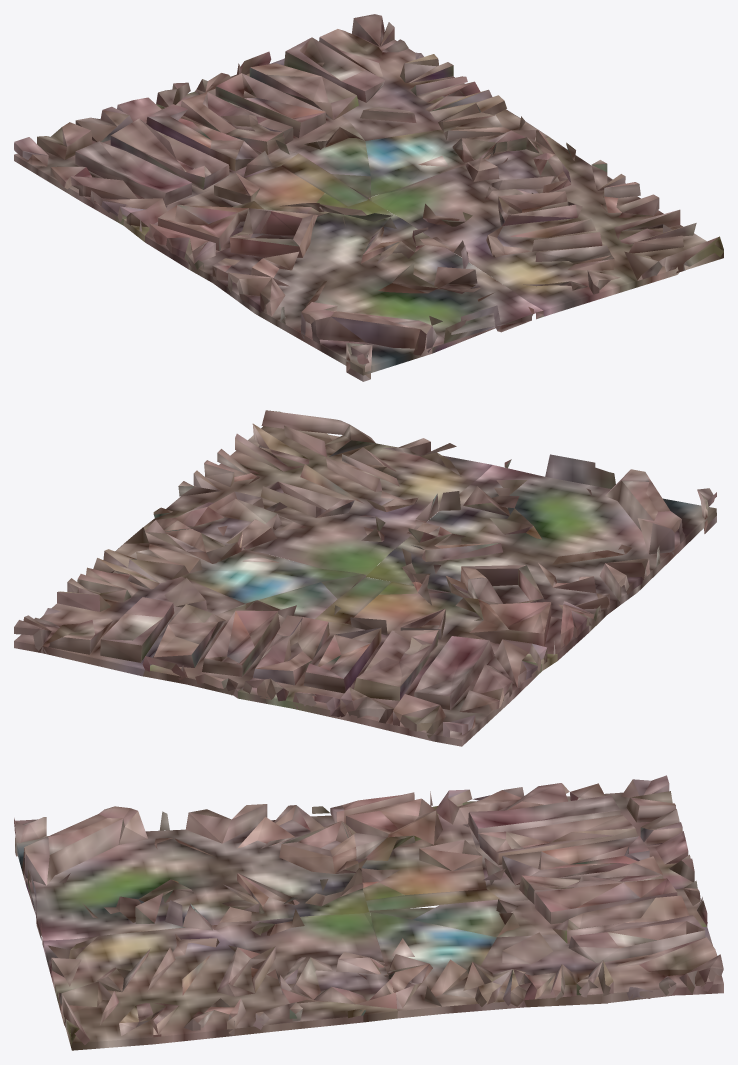
The picture shows the model from 3 angles, top to bottom: view 1: azimuth 30°, elevation 25°; view 2: azimuth 150°, elevation 25°; view 3: azimuth 270°, elevation 25°; orthographic projection. The views are drawn at different scales.
Visible parts, largest first — view 1: Mesh_0; view 2: Mesh_0; view 3: Mesh_0.
Boxes of the visible parts, x1=… form: Mesh_0: x1=14, y1=14, x2=723, y2=381; Mesh_0: x1=14, y1=410, x2=716, y2=746; Mesh_0: x1=14, y1=775, x2=723, y2=1050.
Size of the model in its own units: 533 by 66.79 by 660.
Materials: 1 (1 with a texture image).
